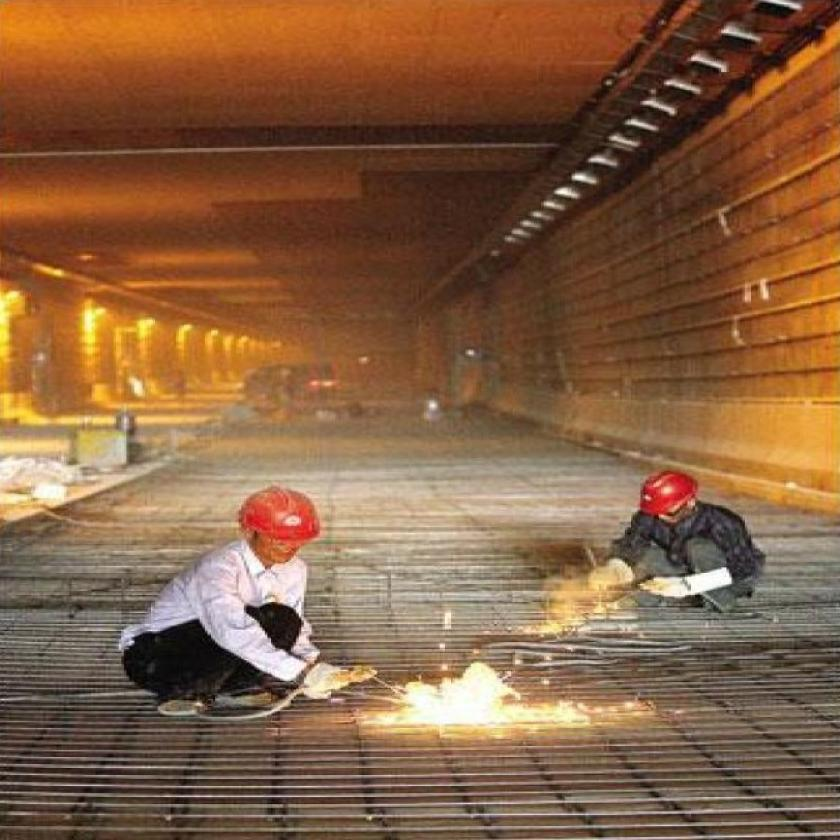Con_casco: (233, 485, 322, 568), (638, 467, 702, 531)
